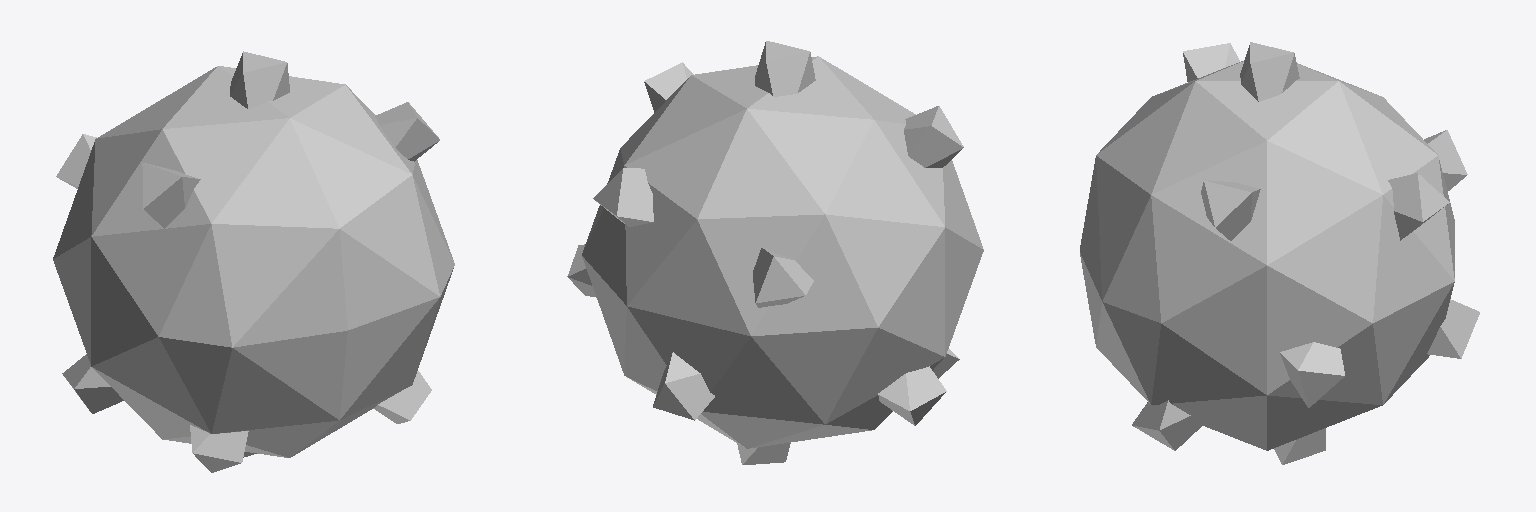
File: koffing.obj
3 renders of one model, left to right at view 1: azimuth 30°, elevation 25°; view 2: azimuth 150°, elevation 25°; view 3: azimuth 270°, elevation 25°, orthographic.
Parts seen in each view (by area): view 1: Pii_DOGAASU_body2, Pii_DOGAASU_eye; view 2: Pii_DOGAASU_body2; view 3: Pii_DOGAASU_body2, Pii_DOGAASU_eye.
Part boxes in pixels (left/top/right/bottom): Pii_DOGAASU_body2: left=53, top=51, right=454, bottom=472; Pii_DOGAASU_eye: left=212, top=175, right=439, bottom=347; Pii_DOGAASU_body2: left=567, top=41, right=983, bottom=464; Pii_DOGAASU_body2: left=1080, top=42, right=1479, bottom=464; Pii_DOGAASU_eye: left=1080, top=156, right=1150, bottom=301.
Bounding box in the file's own units: 4.29 × 4.56 × 4.13.